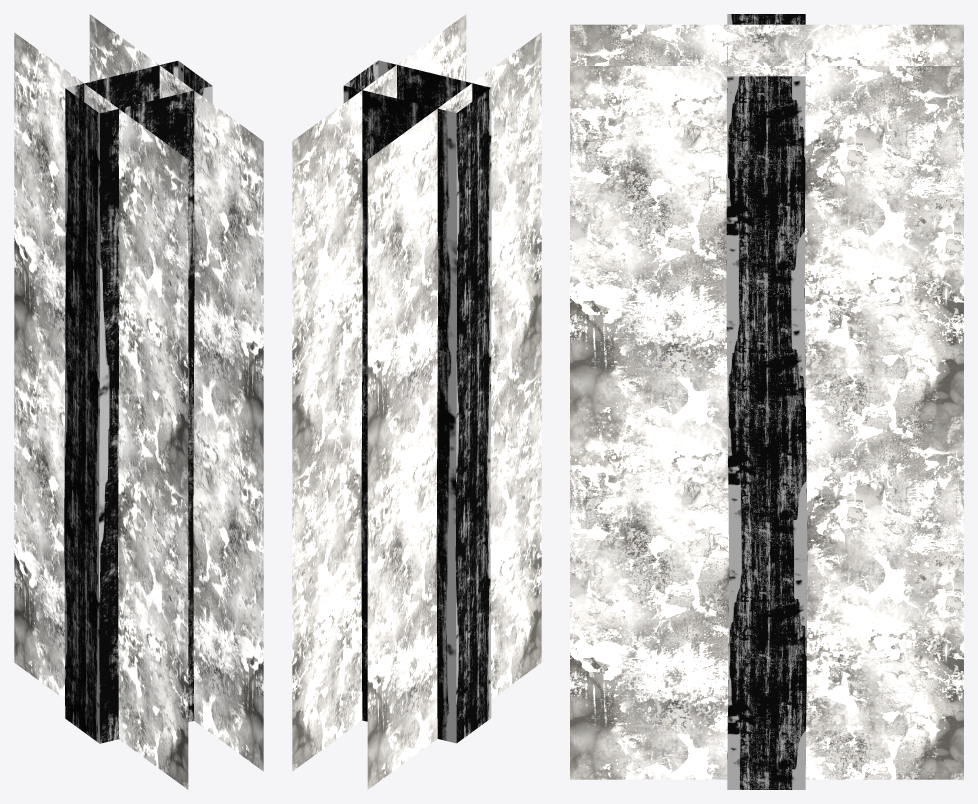
File: SM_wall_A_2x4_02_01.fbx
3 views of the same model, side by side, from view 1: azimuth 30°, elevation 25°; view 2: azimuth 150°, elevation 25°; view 3: azimuth 270°, elevation 25° (orthographic). The views are drawn at different scales.
Parts seen in each view (by area): view 1: SM_wall_A_2x4_02_01_LOD0; view 2: SM_wall_A_2x4_02_01_LOD0; view 3: SM_wall_A_2x4_02_01_LOD0.
Boxes of the visible parts, left/top/right/bottom form: SM_wall_A_2x4_02_01_LOD0: left=14, top=14, right=263, bottom=789; SM_wall_A_2x4_02_01_LOD0: left=292, top=14, right=541, bottom=789; SM_wall_A_2x4_02_01_LOD0: left=570, top=14, right=963, bottom=789.
Bounding box in the file's own units: 75 × 200 × 400.
3 materials, 3 textured.
